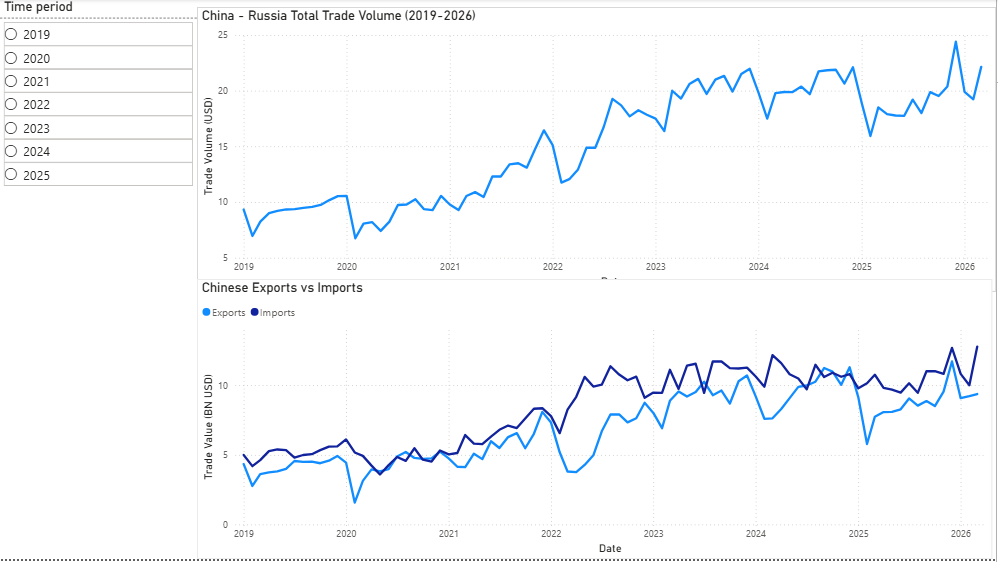

This screenshot's page, from the dashboard's own definition file:
{"tool":"powerbi","page":{"name":"Strona 1","canvas":[1280,720],"ordinal":0},"visuals":[{"type":"lineChart","title":"China - Russia Total Trade Volume (2019-2026)","fields":{"Category":["dataset-russia-china-trading csv.Date"],"Y":["Sum(dataset-russia-china-trading csv.Total trade)"]},"box":[253.2,10.3,1026.8,366.3],"z":0},{"type":"lineChart","title":"Chinese Exports vs Imports","fields":{"Category":["dataset-russia-china-trading csv.Date"],"Y":["dataset-russia-china-trading.Exports","dataset-russia-china-trading.Imports"]},"box":[253.2,359.8,1021.7,359.8],"z":1000},{"type":"listSlicer","title":"Time period","fields":{"Values":["dataset-russia-china-trading csv.Date.Odmiana.Hierarchia dat.Rok"]},"box":[0,0,253.2,719.7],"z":2000}]}

Visuals, with their boxes in screenshot pixels (x1, y1, x2, y2), scaled from the page's 1280x720 canvas onto the 998x562 screenshot:
"China - Russia Total Trade Volume (2019-2026)" lineChart: locate(197, 8, 997, 294)
"Chinese Exports vs Imports" lineChart: locate(197, 281, 994, 561)
"Time period" listSlicer: locate(0, 0, 197, 561)
